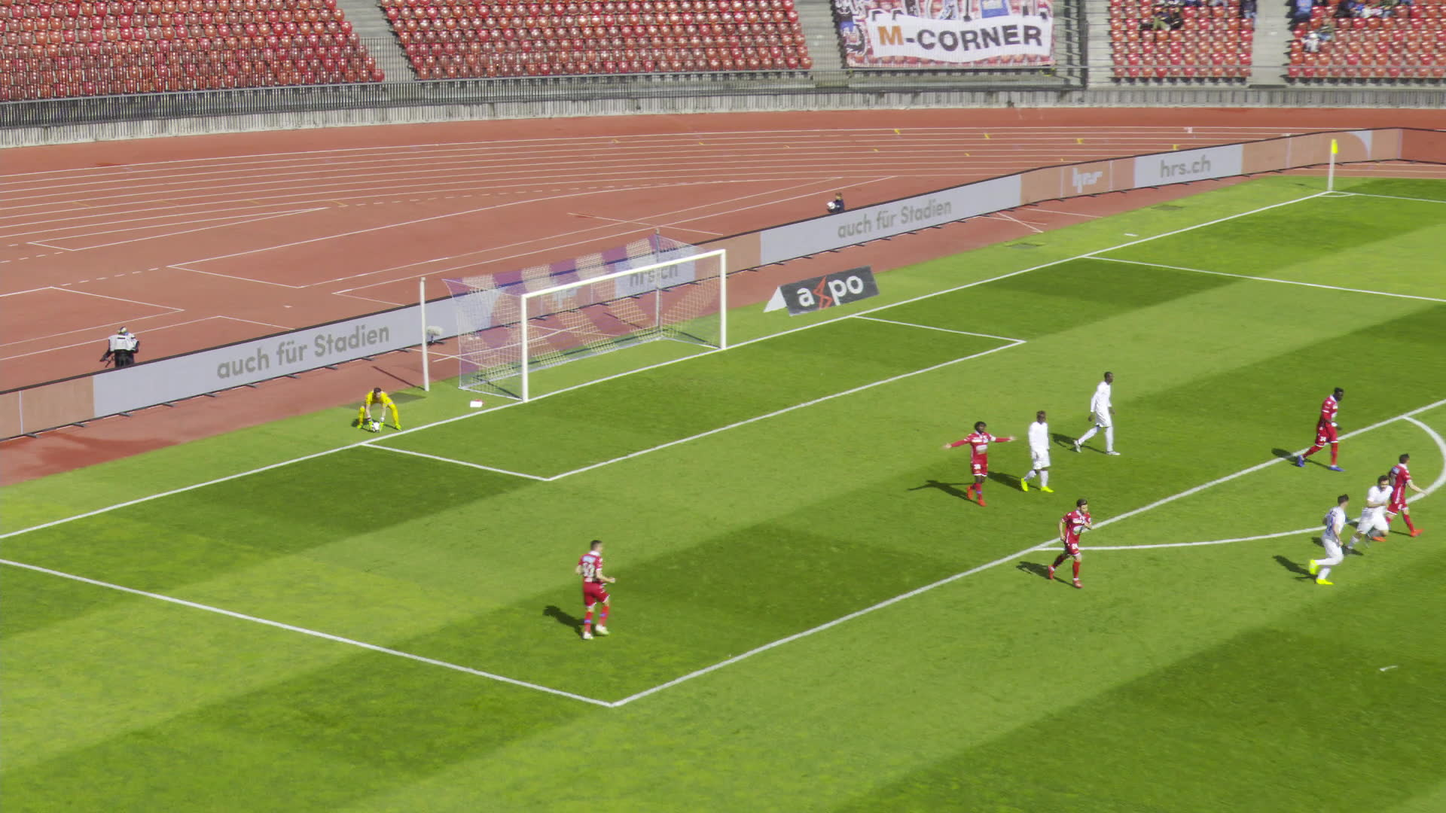ball: (371, 422, 380, 432)
player: (943, 419, 1017, 505), (1371, 452, 1425, 541), (575, 540, 621, 638), (1304, 492, 1350, 585), (1042, 498, 1089, 589), (1341, 473, 1391, 554), (1300, 386, 1344, 471), (1077, 370, 1117, 455), (1021, 410, 1054, 492), (355, 385, 399, 430)
